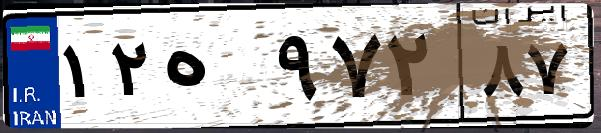1: (57, 26, 110, 100)
2: (385, 28, 445, 110), (110, 28, 158, 98)
7: (330, 28, 385, 110), (525, 38, 570, 115)
8: (475, 38, 525, 113)
9: (270, 28, 330, 110)
ه: (158, 20, 270, 120)
